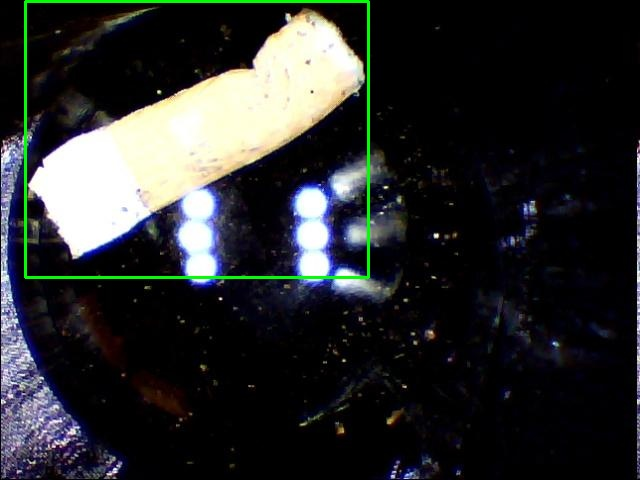megot: (25, 1, 368, 277)
